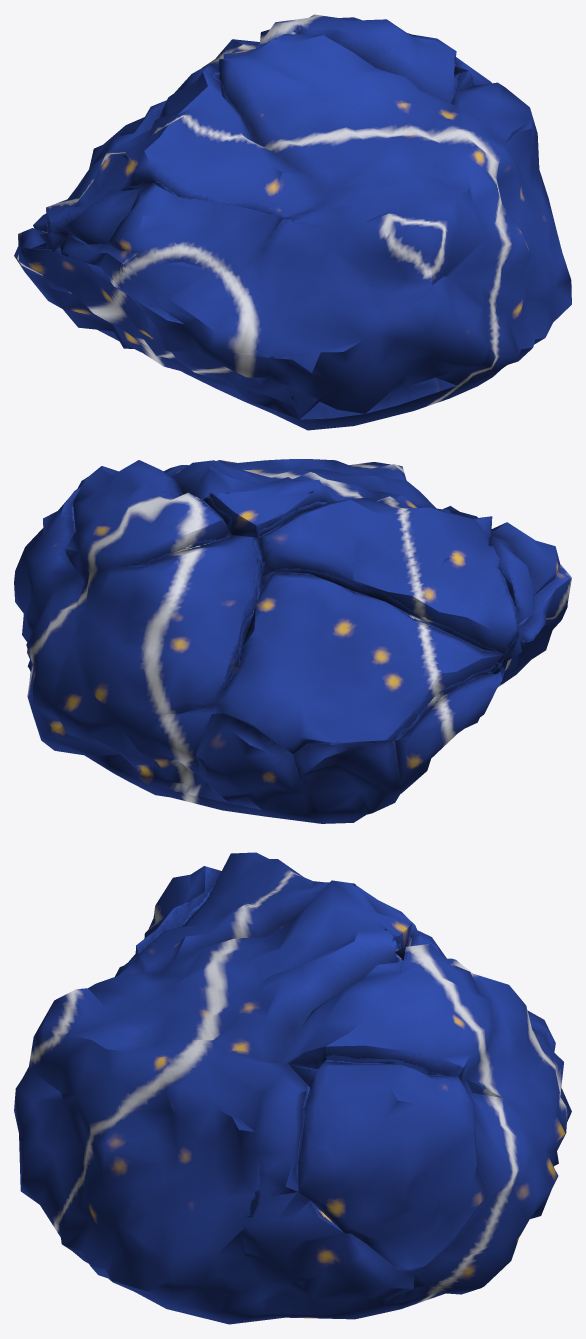
Rendered from lapislazuli_bruto.fbx.
The picture shows the model from 3 angles, top to bottom: view 1: azimuth 30°, elevation 25°; view 2: azimuth 150°, elevation 25°; view 3: azimuth 270°, elevation 25°; orthographic projection. The views are drawn at different scales.
Parts seen in each view (by area): view 1: lapislazuli_bruto; view 2: lapislazuli_bruto; view 3: lapislazuli_bruto.
Boxes of the visible parts, <box> form: lapislazuli_bruto: <box>14,14,571,430</box>; lapislazuli_bruto: <box>14,459,571,823</box>; lapislazuli_bruto: <box>14,852,571,1324</box>.
Bounding box in the file's own units: 2.35 × 1.33 × 2.14.
Materials: 1 (1 with a texture image).
